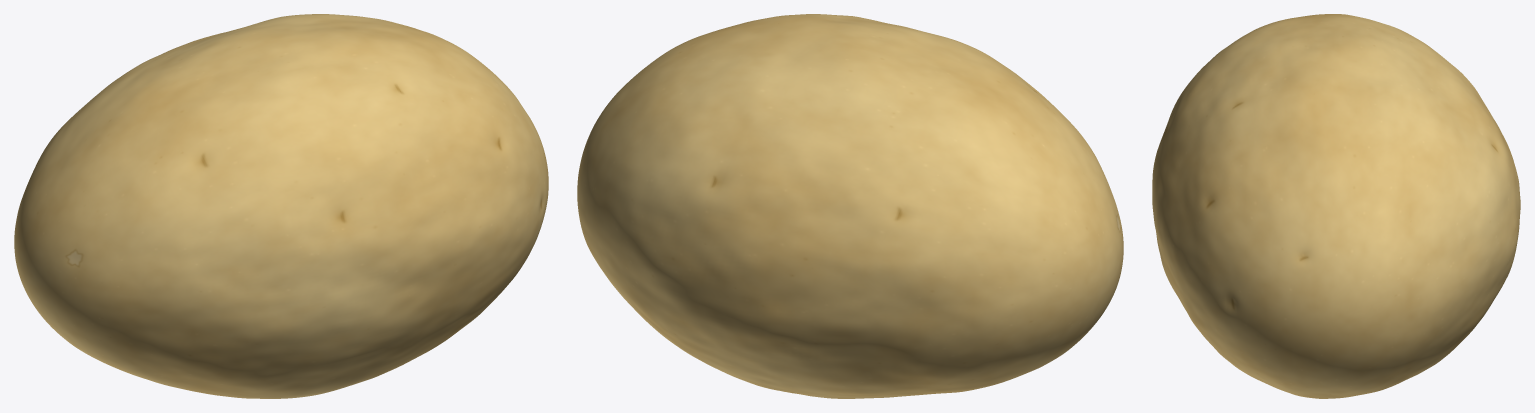
File: aeroponic_potato.glb
3 views of the same model, side by side, from view 1: azimuth 30°, elevation 25°; view 2: azimuth 150°, elevation 25°; view 3: azimuth 270°, elevation 25° (orthographic). The views are drawn at different scales.
Visible parts, largest first — view 1: Aeroponic_Minituber_Hero; view 2: Aeroponic_Minituber_Hero; view 3: Aeroponic_Minituber_Hero.
Part boxes in pixels (bbox=[...]): Aeroponic_Minituber_Hero: bbox=[14, 14, 548, 398]; Aeroponic_Minituber_Hero: bbox=[577, 14, 1123, 398]; Aeroponic_Minituber_Hero: bbox=[1152, 14, 1520, 398].
Size of the model in its own units: 0.0438 by 0.0283 by 0.0305.
Materials: 1 (1 with a texture image).
